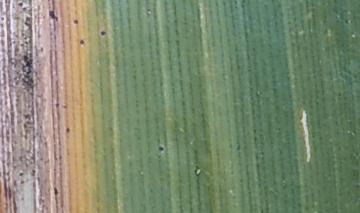tarspot: (47, 8, 60, 23), (52, 186, 59, 199), (157, 144, 167, 153), (99, 28, 107, 37), (39, 45, 45, 57), (78, 38, 86, 46), (15, 1, 24, 8), (72, 17, 79, 25), (17, 171, 25, 178), (54, 100, 60, 109), (64, 127, 71, 134), (19, 178, 25, 186), (1, 15, 6, 22)
